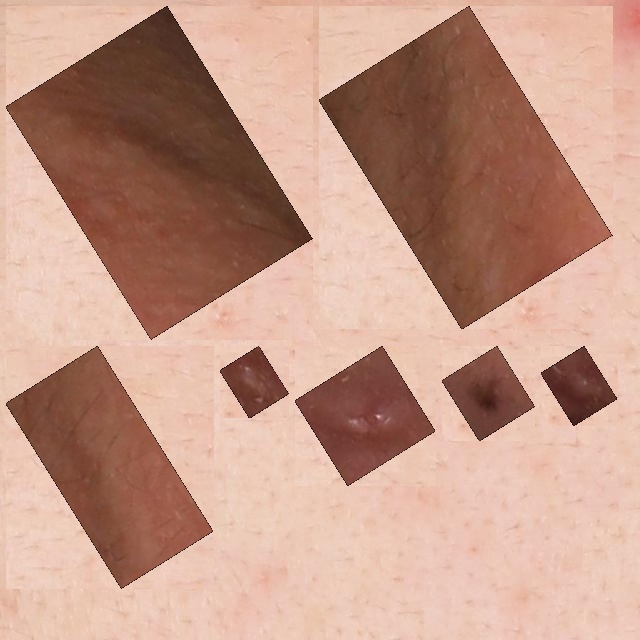hypertrophic_scar: (17, 17, 301, 328), (329, 16, 601, 318), (17, 357, 202, 577), (306, 357, 424, 474), (552, 357, 606, 415), (231, 357, 278, 407)
nevus: (453, 357, 524, 430)
